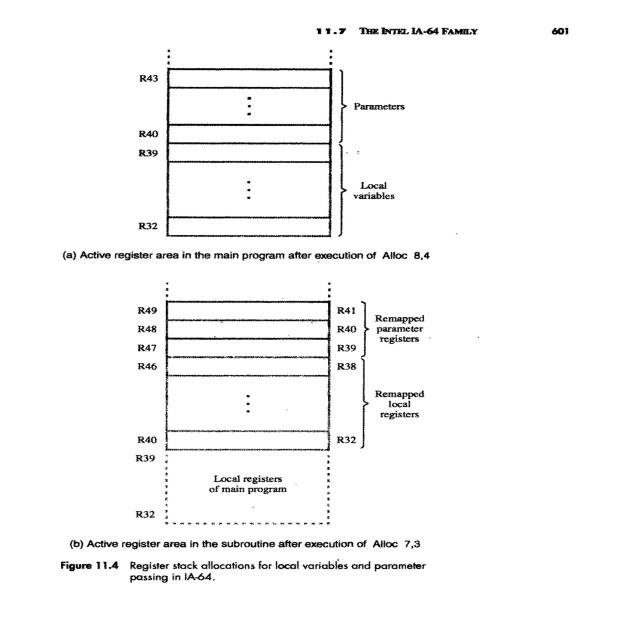diagram: (41, 42, 547, 596)
